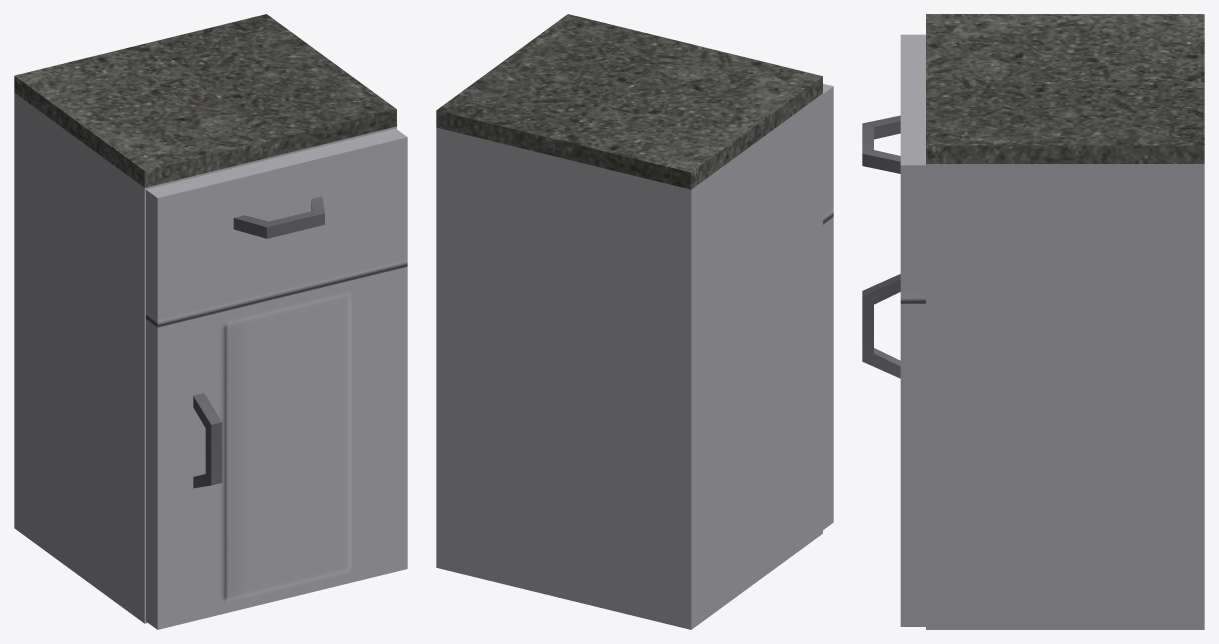
Rendered from Kitchen_Cabinet_2C.fbx.
The picture shows the model from 3 angles, left to right: view 1: azimuth 30°, elevation 25°; view 2: azimuth 150°, elevation 25°; view 3: azimuth 270°, elevation 25°; orthographic projection. The views are drawn at different scales.
Visible parts, largest first — view 1: polySurface965; view 2: polySurface965; view 3: polySurface965.
Boxes of the visible parts, box(x1,y1,x2,y2) form: polySurface965: box(14, 14, 407, 629); polySurface965: box(436, 14, 833, 629); polySurface965: box(862, 14, 1204, 629).
Size of the model in its own units: 0.7792 by 1.34 by 0.8565.
